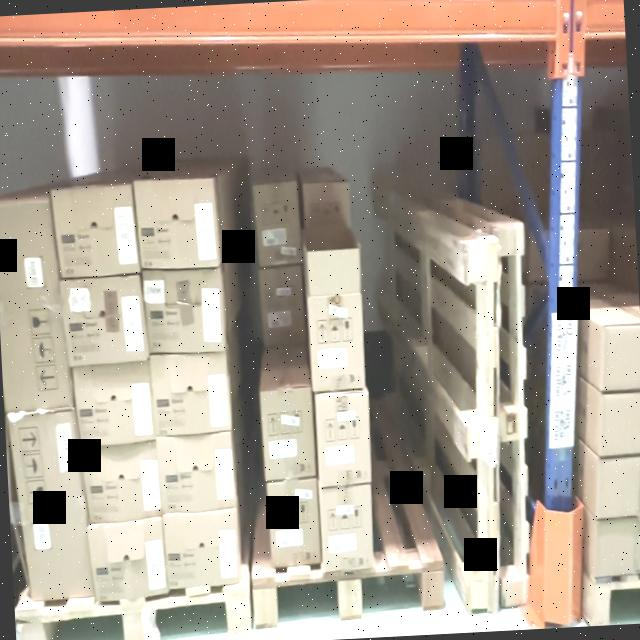box: (9, 409, 95, 600), (0, 201, 72, 414), (53, 184, 140, 278), (60, 277, 148, 369), (135, 179, 217, 266), (73, 357, 155, 442), (81, 441, 161, 525), (87, 517, 168, 599), (147, 268, 224, 352), (152, 354, 230, 431), (160, 432, 234, 513), (317, 395, 373, 487), (310, 296, 364, 390), (166, 515, 238, 584), (262, 392, 315, 477), (320, 486, 372, 568), (270, 482, 320, 565), (260, 268, 306, 344), (256, 184, 301, 260), (597, 458, 640, 521), (594, 520, 640, 577), (603, 325, 640, 390), (602, 394, 640, 457)
